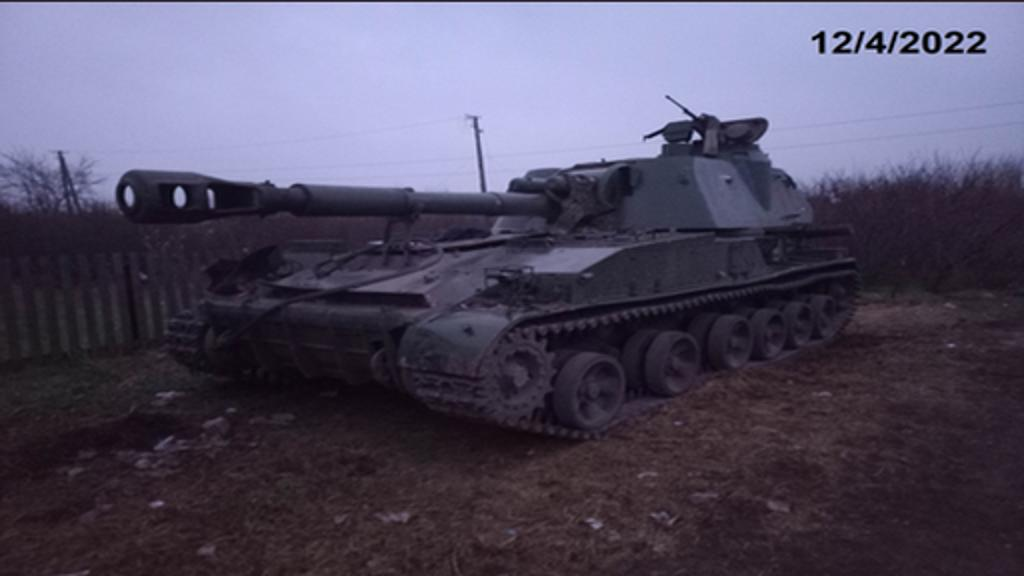ART: (110, 106, 860, 448)
